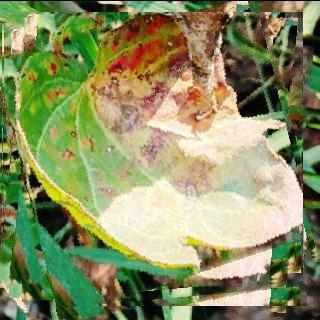blight: (2, 22, 308, 305)
curl: (2, 11, 303, 312)
